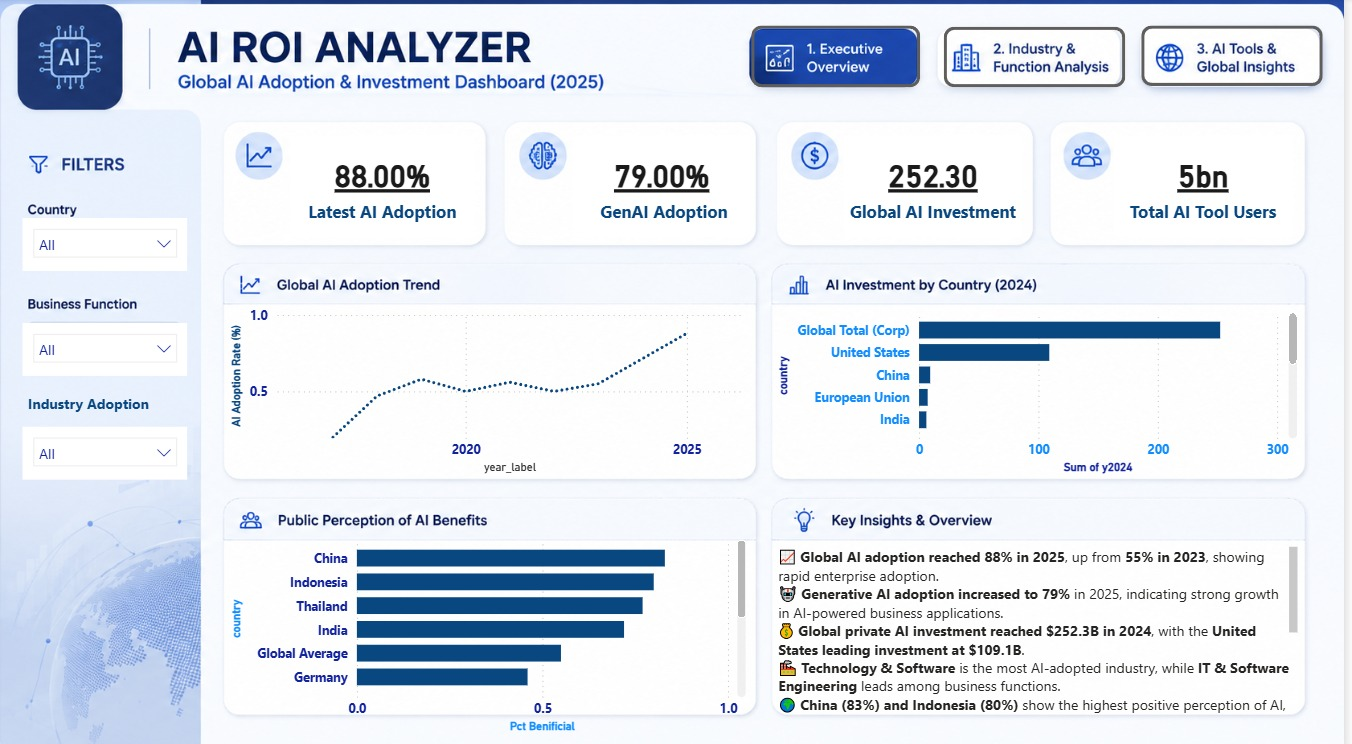

The dashboard page shown, as its layout file describes it:
{"tool":"powerbi","page":{"name":"Executive Overview","canvas":[1280,720],"ordinal":0},"visuals":[{"type":"card","fields":{"Values":["Measures (2).Latest AI Adoption"]},"box":[276.2,131,176.2,96.4],"z":0},{"type":"card","fields":{"Values":["Measures (2).Latest GenAI Adoption"]},"box":[545.2,131,170.2,96.4],"z":1000},{"type":"card","fields":{"Values":["Measures (2).Global AI Investment"]},"box":[803.6,131,170.2,96.4],"z":2000},{"type":"card","fields":{"Values":["Measures (2).Total AI Tool Users"]},"box":[1060.7,131,170.2,96.4],"z":3000},{"type":"lineChart","fields":{"Category":["org_adoption.year_label"],"Y":["Sum(org_adoption.ai_any_function_pct)"]},"box":[214.3,288.1,501.2,170.2],"z":4000},{"type":"clusteredBarChart","fields":{"Category":["sentiment_by_country.country"],"Y":["Sum(sentiment_by_country.pct_beneficial)"]},"box":[214.3,503.6,501.2,201.2],"z":5000},{"type":"clusteredBarChart","fields":{"Category":["investment_by_country.country"],"Y":["Sum(investment_by_country.y2024)"]},"box":[735.7,286.9,504.8,171.4],"z":6000},{"type":"slicer","fields":{"Values":["investment_by_country.country"]},"box":[21.4,209.5,157.1,50],"z":7000},{"type":"slicer","fields":{"Values":["industry_adoption.industry_sector"]},"box":[21.4,408.3,157.1,50],"z":8000},{"type":"slicer","fields":{"Values":["business_function.business_function"]},"box":[21.4,309.5,157.1,50],"z":9000},{"type":"textbox","box":[21.4,372.6,157.1,35.7],"z":10000},{"type":"textbox","box":[735.7,517.9,504.8,170.2],"z":11000},{"type":"actionButton","box":[899.4,27.6,172.9,57.6],"z":12000},{"type":"actionButton","box":[715.6,26.4,160.9,58.8],"z":12001},{"type":"actionButton","box":[1086.7,26.4,172.9,57.6],"z":12002}]}

Visuals, with their boxes in screenshot pixels (x1, y1, x2, y2), scaled from the page's 1280x720 canvas onto the 1352x744 screenshot:
card - Measures (2).Latest AI Adoption: 292/135/478/235
card - Measures (2).Latest GenAI Adoption: 576/135/756/235
card - Measures (2).Global AI Investment: 849/135/1029/235
card - Measures (2).Total AI Tool Users: 1120/135/1300/235
lineChart - org_adoption.year_label x Sum(org_adoption.ai_any_function_pct): 226/298/756/474
clusteredBarChart - sentiment_by_country.country x Sum(sentiment_by_country.pct_beneficial): 226/520/756/728
clusteredBarChart - investment_by_country.country x Sum(investment_by_country.y2024): 777/296/1310/474
slicer - investment_by_country.country: 23/216/189/268
slicer - industry_adoption.industry_sector: 23/422/189/474
slicer - business_function.business_function: 23/320/189/371
textbox: 23/385/189/422
textbox: 777/535/1310/711
actionButton: 950/29/1133/88
actionButton: 756/27/926/88
actionButton: 1148/27/1330/87
